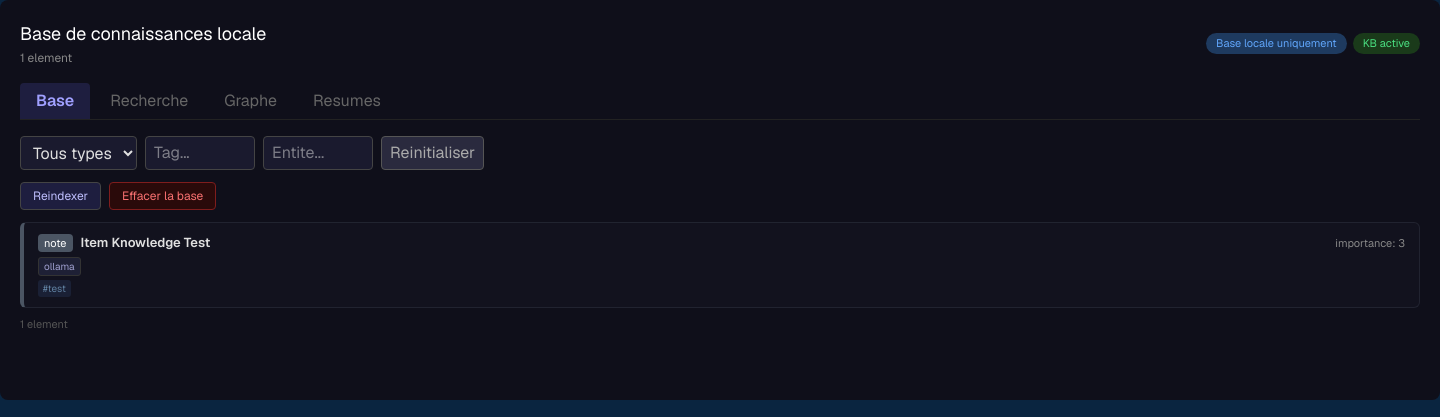
Test: KnowledgeBasePanel › bascule vers onglet Recherche
This screenshot has width=1440, height=417.
Step 1. Click the button "Recherche" → (149, 101), box top-left (94, 83), bottom-right (204, 119)
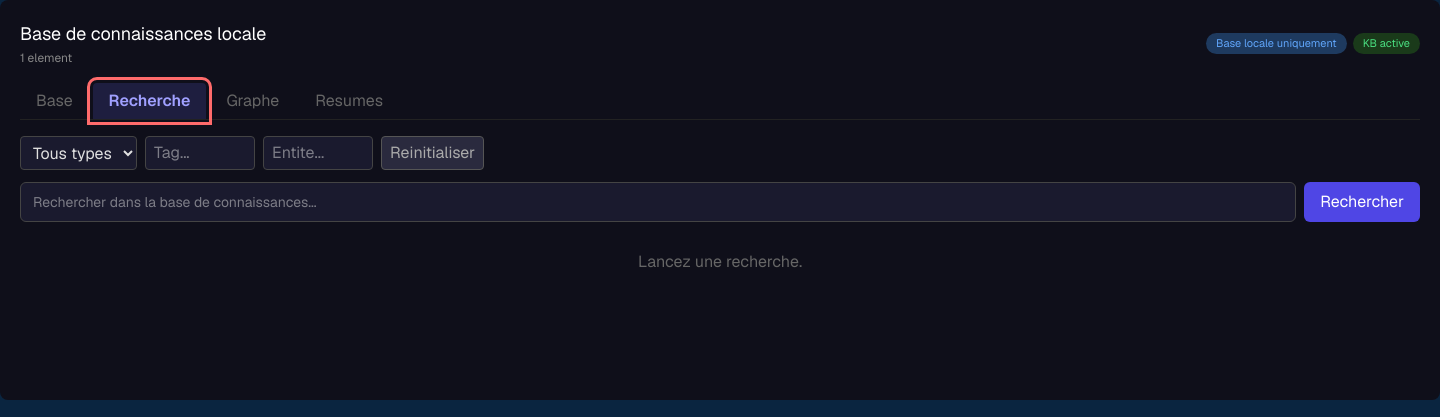
Check: the field named "Recherche dans la base de connaissances" is shown, box top-left (20, 182), bottom-right (1296, 222)
